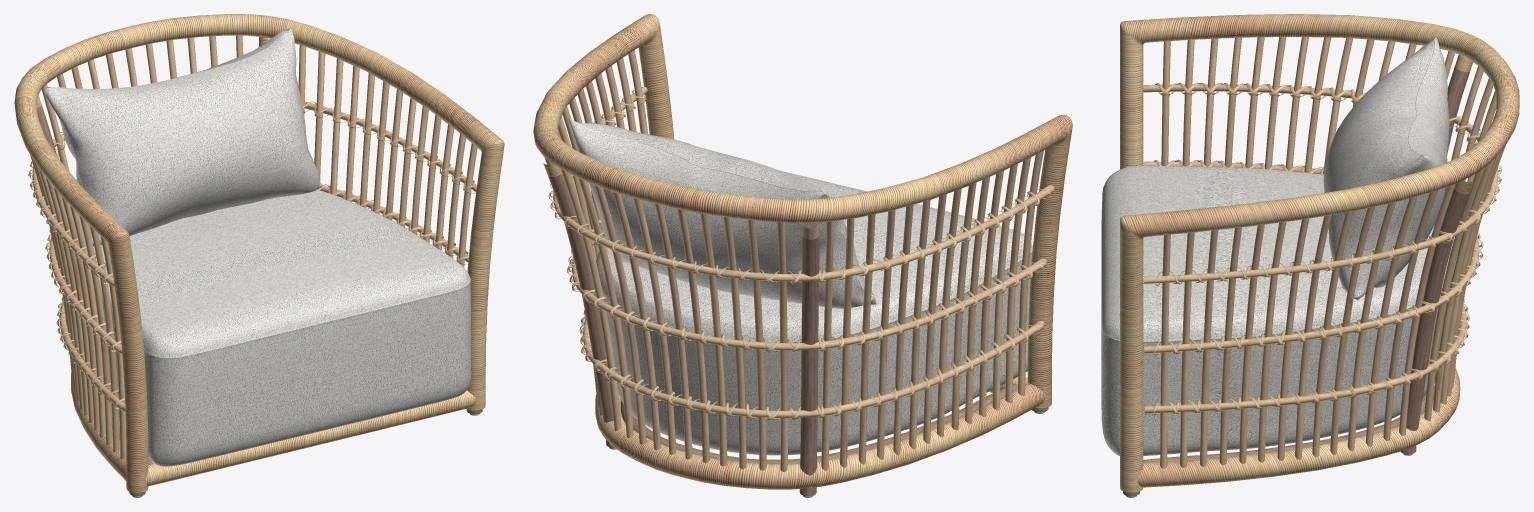
Rendered from stockholm-2025-sillon-ratandjurmo-grisblanco.glb.
3 views of the same model, side by side, from view 1: azimuth 30°, elevation 25°; view 2: azimuth 150°, elevation 25°; view 3: azimuth 270°, elevation 25° (orthographic). The views are drawn at different scales.
Visible parts, largest first — view 1: 79578263_armchair_se, 79578263_armchair_se.004, 79578263_armchair_se.003; view 2: 79578263_armchair_se.003, 79578263_armchair_se, 79578263_armchair_se.004, 79578263_armchair_se.001; view 3: 79578263_armchair_se, 79578263_armchair_se.003, 79578263_armchair_se.004, 79578263_armchair_se.001.
Boxes of the visible parts, x1,y1,x2,y2 form: 79578263_armchair_se: (45,28,471,466); 79578263_armchair_se.004: (14,14,504,493); 79578263_armchair_se.003: (28,35,477,459); 79578263_armchair_se.003: (544,50,1054,471); 79578263_armchair_se: (568,118,1032,455); 79578263_armchair_se.004: (533,14,1072,489); 79578263_armchair_se.001: (548,173,1048,496); 79578263_armchair_se: (1101,37,1457,455); 79578263_armchair_se.003: (1143,37,1505,468); 79578263_armchair_se.004: (1120,14,1519,492); 79578263_armchair_se.001: (1123,67,1469,496).
Size of the model in its own units: 0.9284 by 0.6692 by 0.8034.
5 materials, 4 textured.
